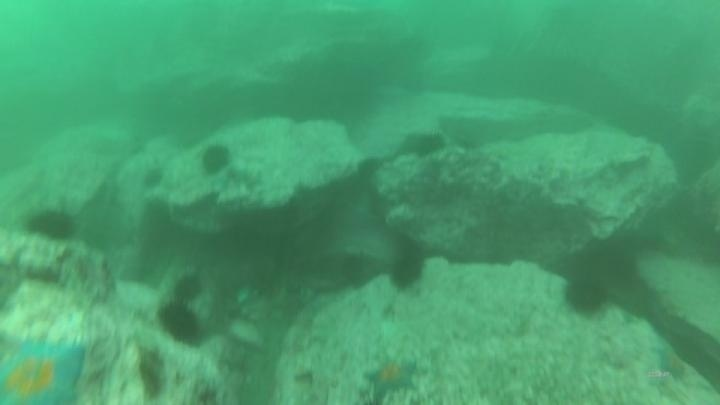echinus: (157, 300, 205, 347), (562, 273, 611, 318), (23, 206, 79, 244), (386, 247, 428, 293), (138, 197, 176, 245), (336, 251, 376, 292), (400, 129, 447, 160), (197, 142, 234, 178), (171, 272, 206, 304), (139, 165, 167, 193)
starfish: (0, 333, 90, 405), (362, 353, 422, 402), (651, 342, 690, 383)
